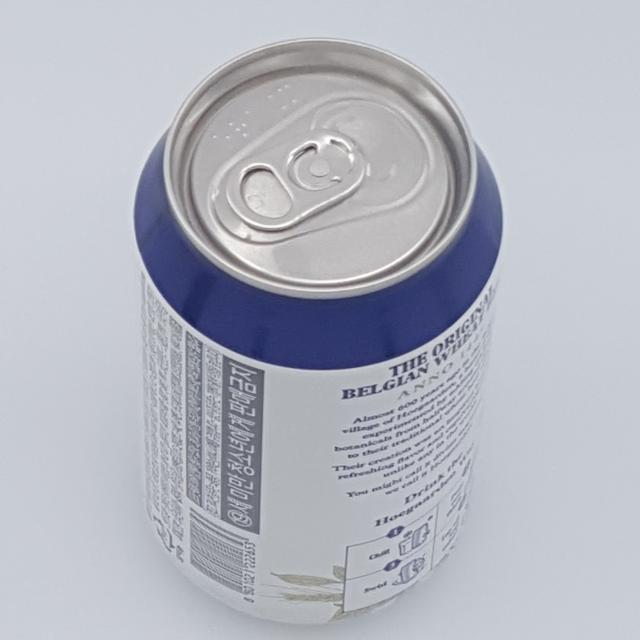beer-can: (133, 37, 503, 625)
